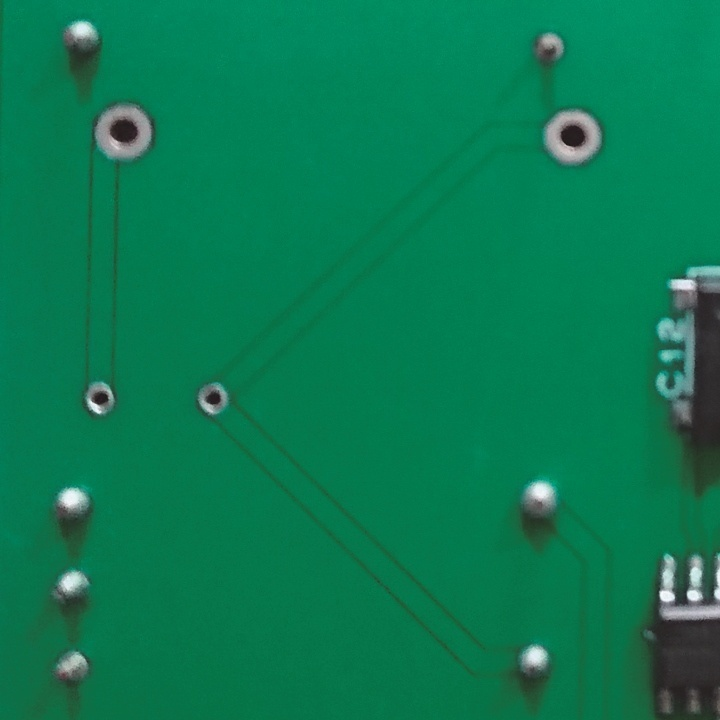F: (90, 100, 158, 166), (539, 107, 606, 169), (49, 648, 93, 689), (81, 379, 118, 419), (530, 30, 567, 67), (193, 380, 229, 418)
